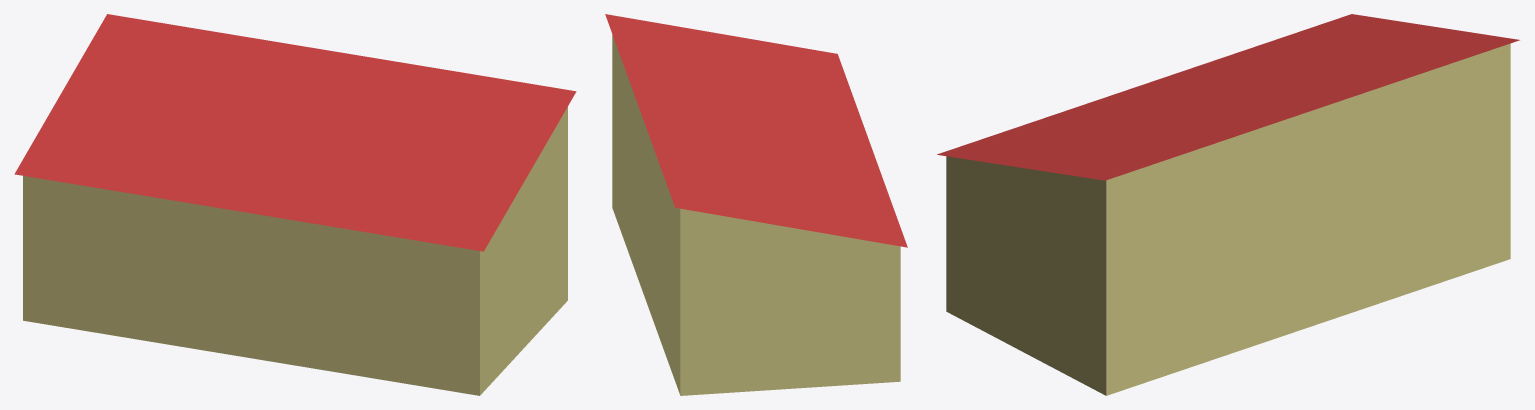
3 views of the same model, side by side, from view 1: azimuth 30°, elevation 25°; view 2: azimuth 150°, elevation 25°; view 3: azimuth 270°, elevation 25° (orthographic). The views are drawn at different scales.
Bounding box in the file's own units: 19 × 20.42 × 8.46.
